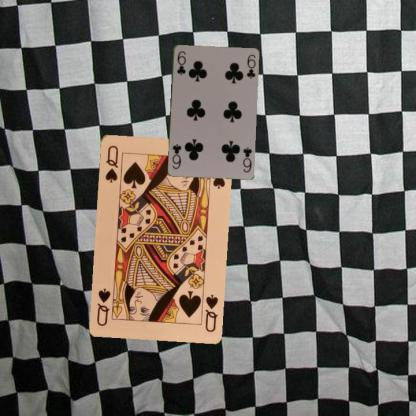6c: (240, 144, 252, 173), (174, 48, 186, 76)
Qs: (102, 142, 119, 184), (202, 292, 219, 333)
